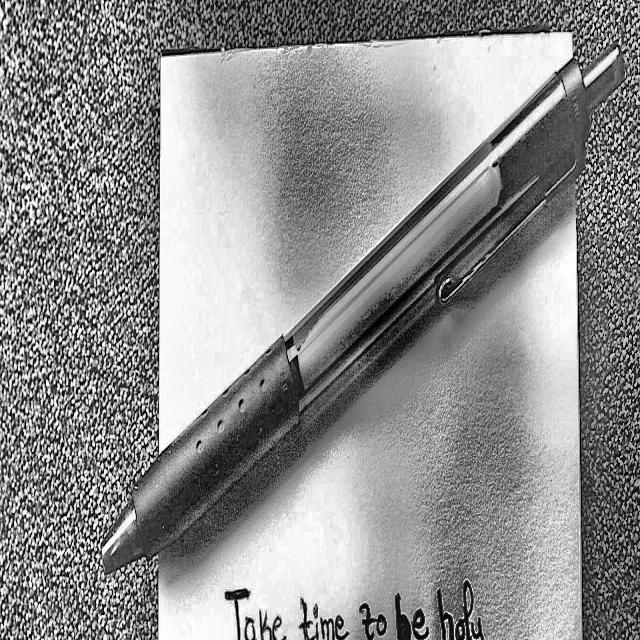Pen: (104, 34, 618, 562)
